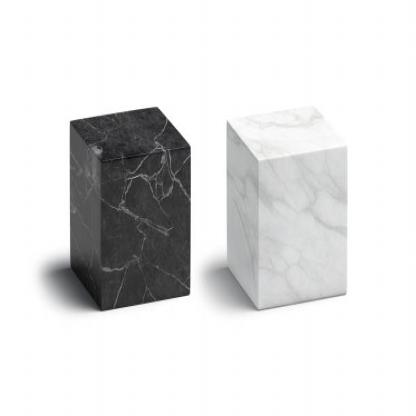Metamorphic_Marble: (59, 102, 195, 304), (219, 112, 359, 306)
